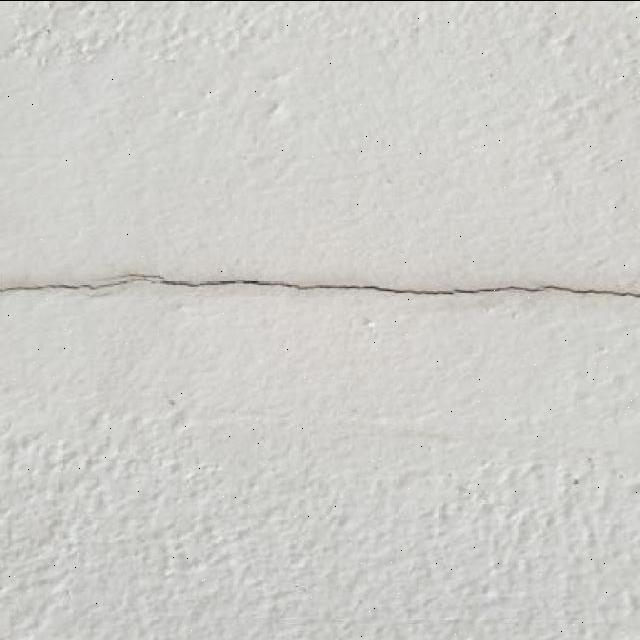crack: (0, 271, 639, 304)
